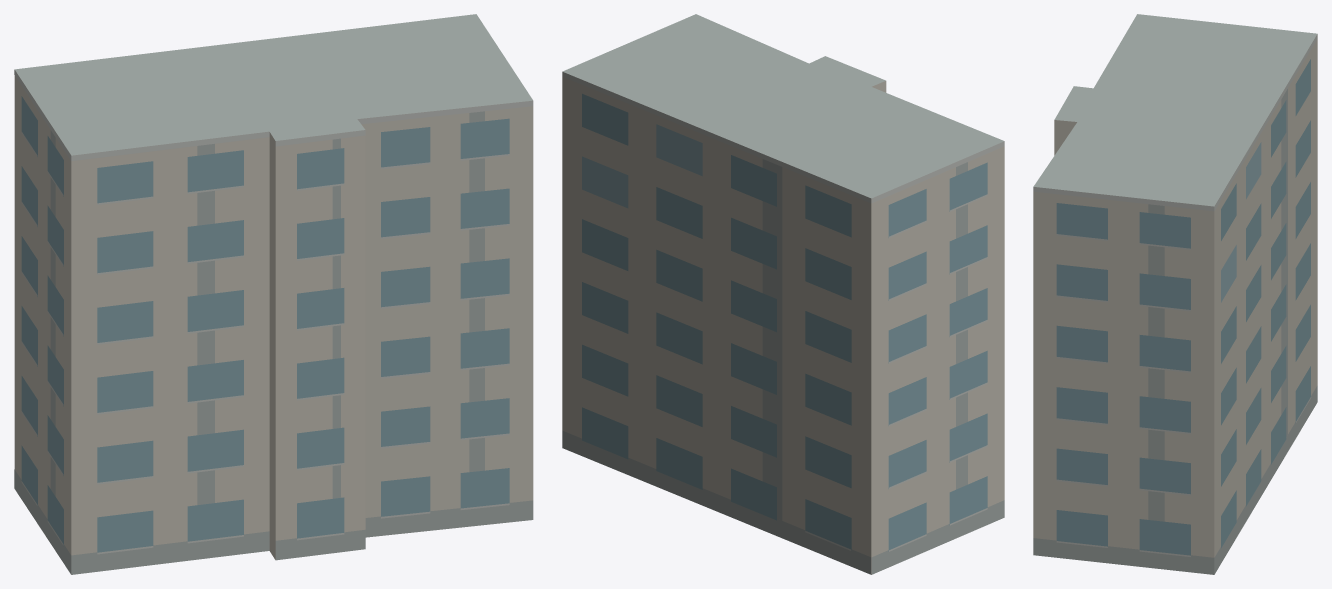
The model's file is survey-upis-32599951.glb.
3 renders of one model, left to right at view 1: azimuth 30°, elevation 25°; view 2: azimuth 150°, elevation 25°; view 3: azimuth 270°, elevation 25°, orthographic. The views are drawn at different scales.
Visible parts, largest first — view 1: survey-upis-32599951.tmp; view 2: survey-upis-32599951.tmp; view 3: survey-upis-32599951.tmp.
Boxes of the visible parts, box(x1,y1,x2,y2) form: survey-upis-32599951.tmp: box(14, 14, 533, 574); survey-upis-32599951.tmp: box(562, 14, 1004, 574); survey-upis-32599951.tmp: box(1033, 14, 1317, 574).
Size of the model in its own units: 20.52 by 18.3 by 12.81.
